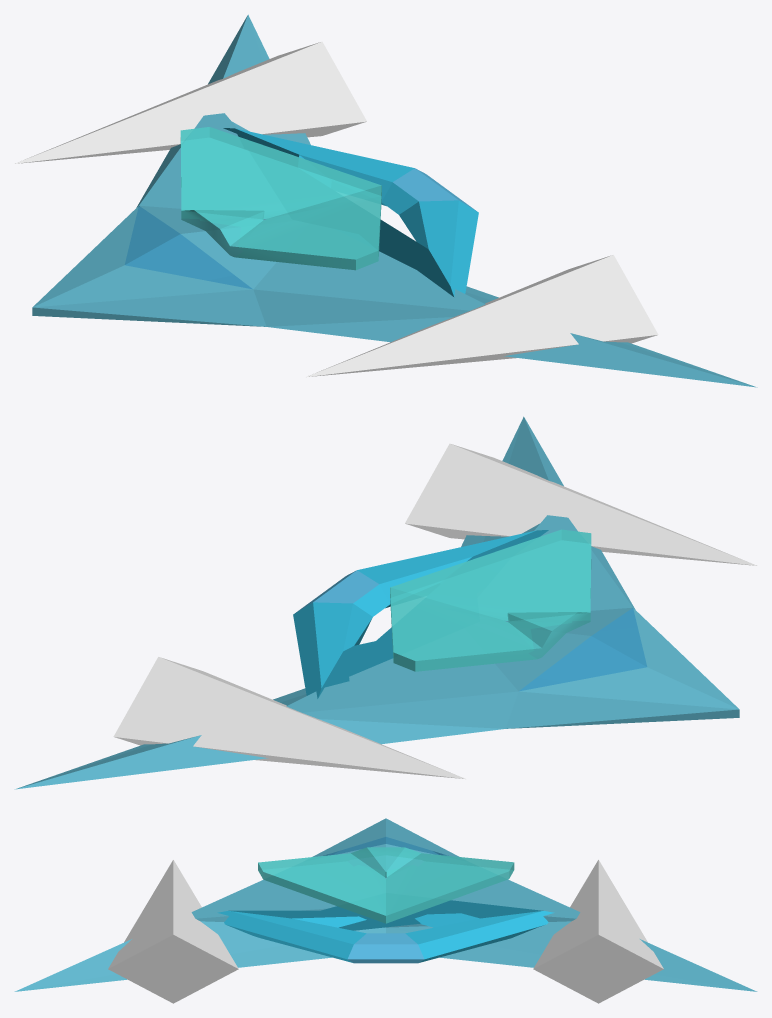
File: standardshipModel.fbx
The picture shows the model from 3 angles, top to bottom: view 1: azimuth 30°, elevation 25°; view 2: azimuth 150°, elevation 25°; view 3: azimuth 270°, elevation 25°; orthographic projection. The views are drawn at different scales.
Visible parts, largest first — view 1: pSphere1, pTorus2, pasted__pPyramid1, pPyramid1, pTorus1; view 2: pSphere1, pTorus2, pPyramid1, pasted__pPyramid1, pTorus1; view 3: pSphere1, pTorus1, pTorus2, pPyramid1, pasted__pPyramid1.
Part boxes in pixels (x1,y1,x2,y2): pSphere1: [32, 14, 757, 387]; pTorus2: [180, 127, 381, 270]; pasted__pPyramid1: [306, 255, 658, 376]; pPyramid1: [14, 41, 366, 163]; pTorus1: [223, 128, 478, 296]; pSphere1: [14, 416, 739, 789]; pTorus2: [390, 529, 591, 671]; pPyramid1: [113, 657, 465, 778]; pasted__pPyramid1: [405, 443, 757, 565]; pTorus1: [293, 530, 548, 698]; pSphere1: [14, 818, 757, 991]; pTorus1: [217, 900, 554, 963]; pTorus2: [258, 847, 514, 923]; pPyramid1: [533, 860, 663, 1003]; pasted__pPyramid1: [108, 860, 238, 1003].
Bounding box in the file's own units: 7.46 × 1.46 × 14.
